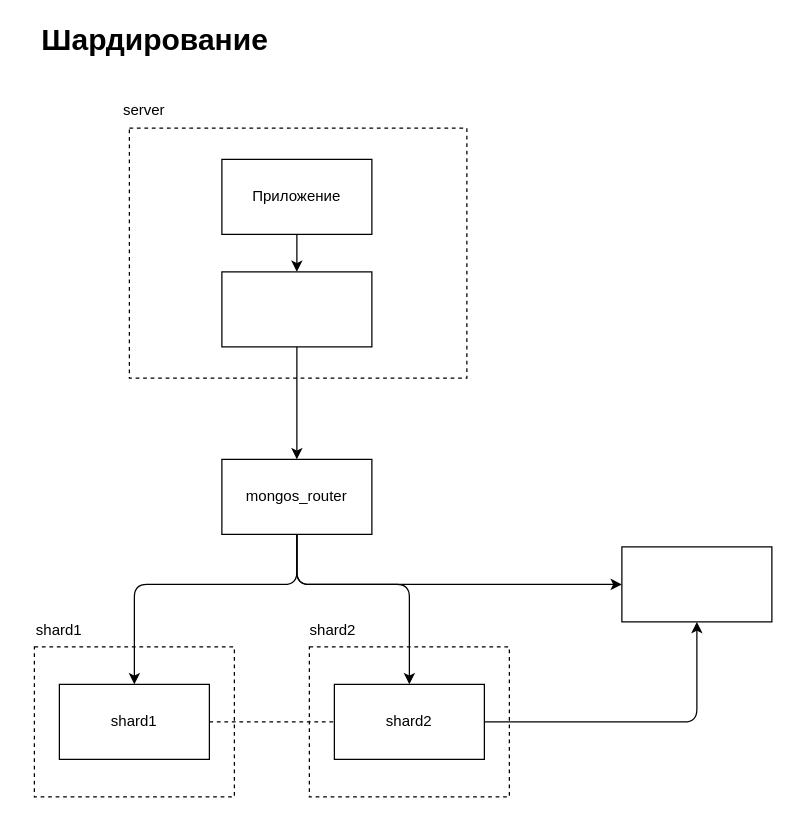
Some shapes in this 794 by 819 pixel diagram are drawn without their labels. Here are the shapes that lost their labels. From the top down, the centre of each, then its label:
point (296, 309): Драйвер
point (696, 584): configSrv
